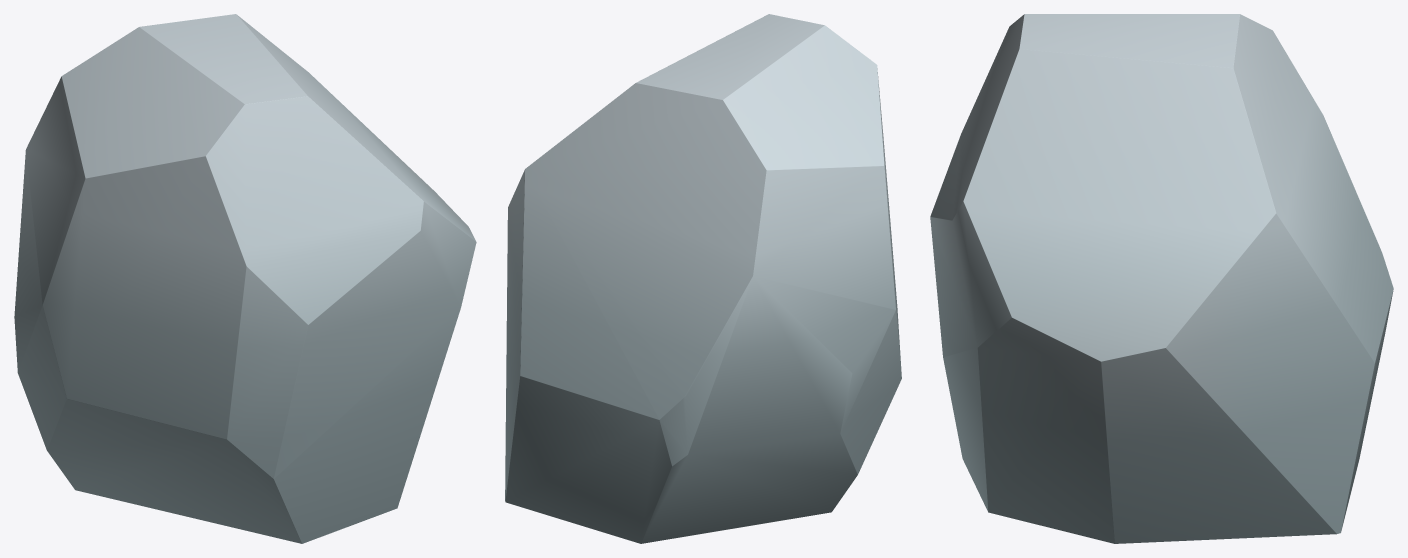
File: rock1.fbx
3 renders of one model, left to right at view 1: azimuth 30°, elevation 25°; view 2: azimuth 150°, elevation 25°; view 3: azimuth 270°, elevation 25°, orthographic. The views are drawn at different scales.
Visible parts, largest first — view 1: Sphere; view 2: Sphere; view 3: Sphere.
Boxes of the visible parts, <box> form: Sphere: <box>14,14,476,543</box>; Sphere: <box>505,14,901,543</box>; Sphere: <box>930,14,1393,543</box>.
Bounding box in the file's own units: 189 × 192 × 187.
